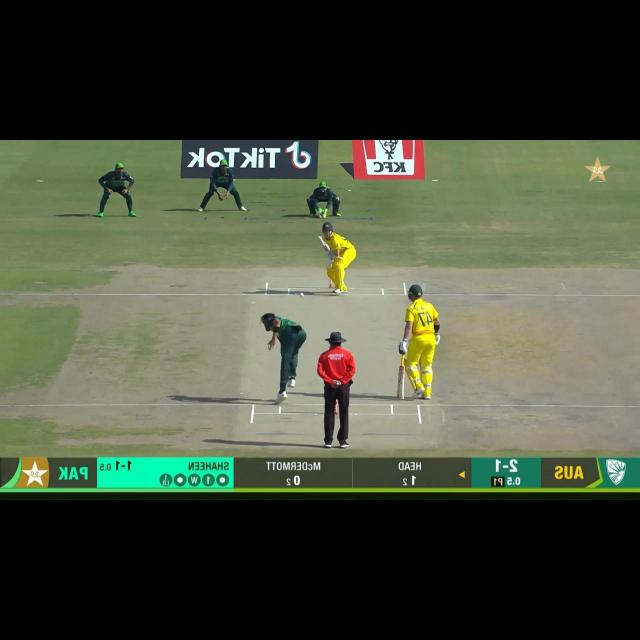bat: (396, 365, 406, 399), (316, 234, 329, 249)
toe: (397, 392, 405, 398), (317, 236, 324, 239)
